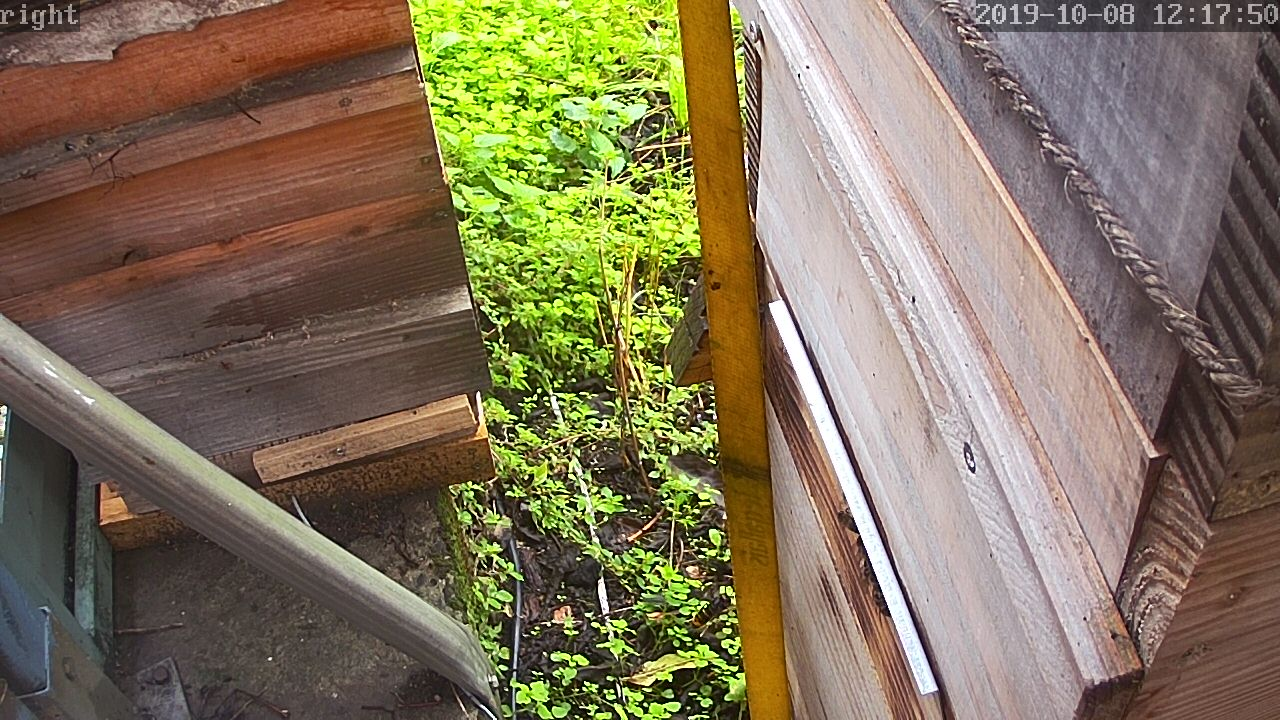bee: (867, 581, 896, 622), (852, 551, 881, 586), (835, 507, 860, 535)
hornet: (690, 588, 735, 632)
